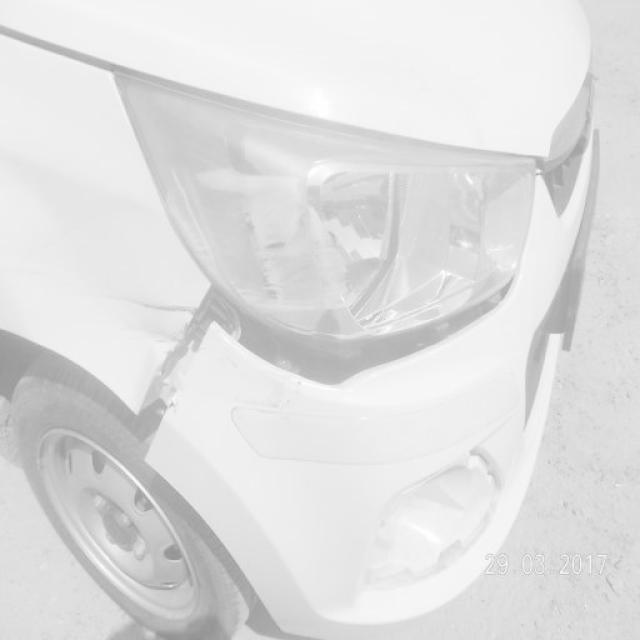car damage: (66, 267, 521, 463)
